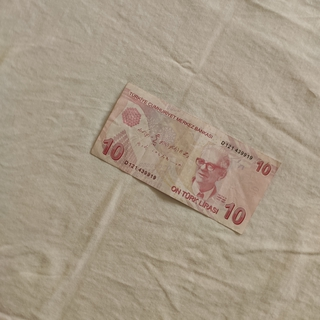10TLBack: (89, 81, 282, 235)
